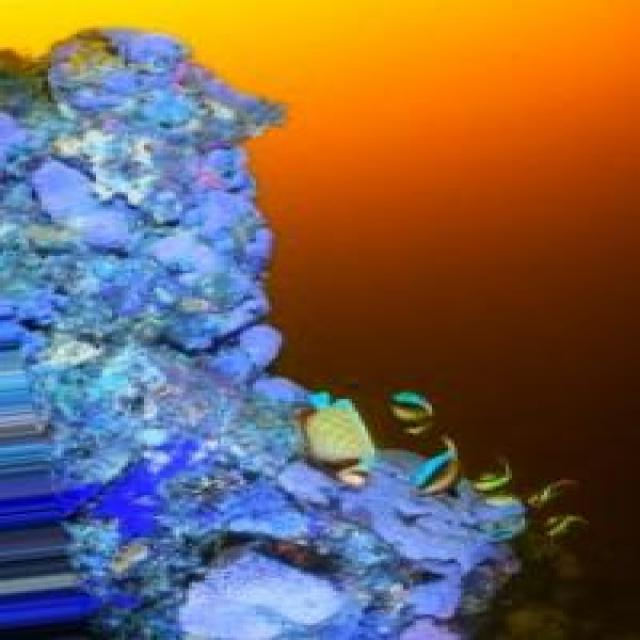Healthy: (1, 31, 487, 640)
